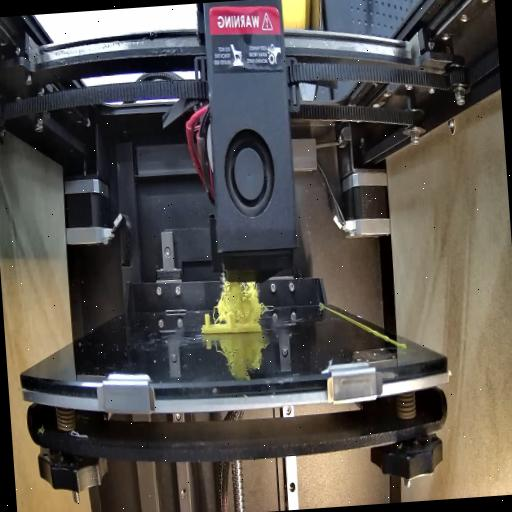spaghetti: (211, 271, 268, 326)
